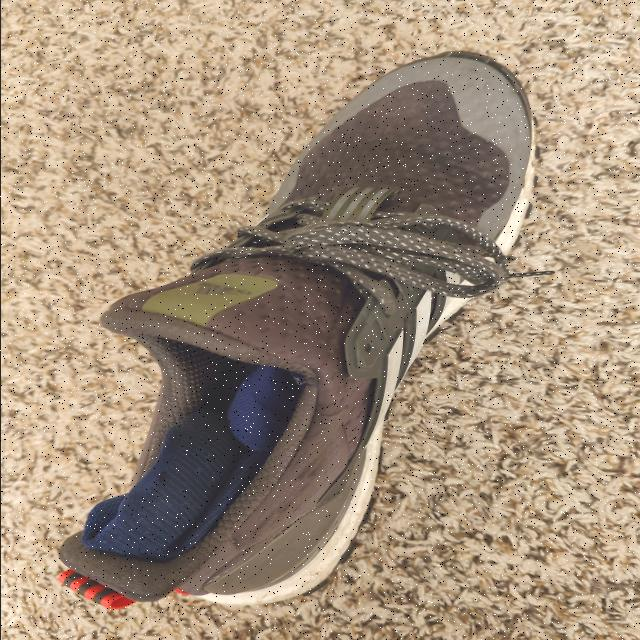black shoes: (52, 52, 506, 608)
